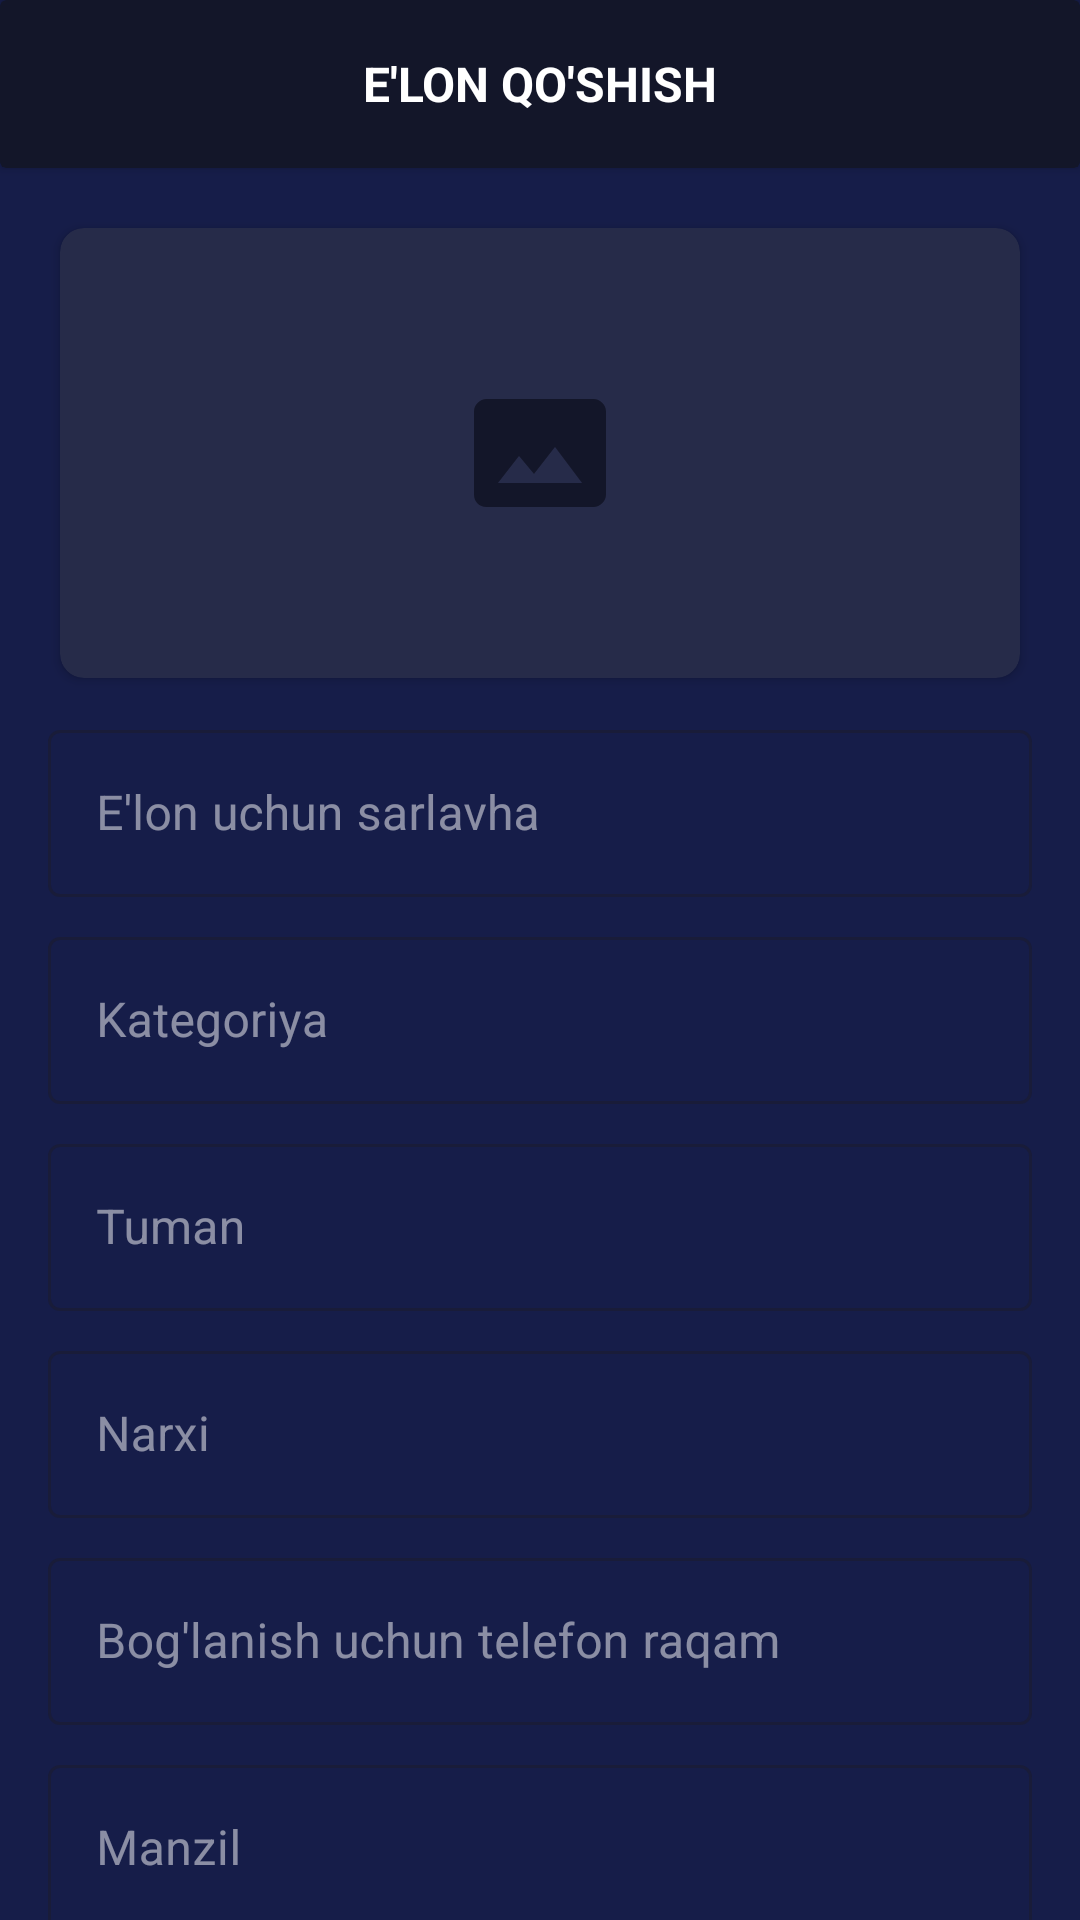

Screen size 1080px x 1920px. Icon name, then its box in pixels as [x1,y1,x2,y2]:
photo size select actual: [474,399,606,507]
